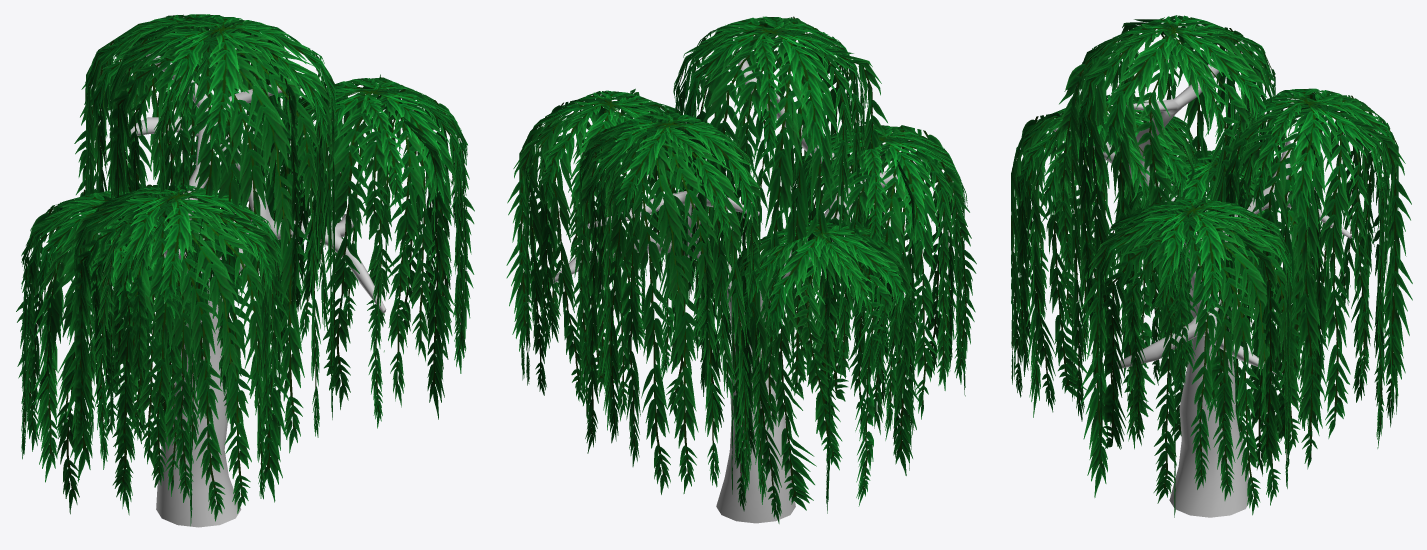
The model's file is street_vegetation_park_tree_Iva2.FBX.
3 views of the same model, side by side, from view 1: azimuth 30°, elevation 25°; view 2: azimuth 150°, elevation 25°; view 3: azimuth 270°, elevation 25° (orthographic). The views are drawn at different scales.
Visible parts, largest first — view 1: street_vegetation_park_tree_Iva_leafs, street_vegetation_park_tree_Iva_leafs3, street_vegetation_park_tree_Iva_leafs001, street_vegetation_park_tree_Iva2_bark; view 2: street_vegetation_park_tree_Iva_leafs, street_vegetation_park_tree_Iva_leafs001, street_vegetation_park_tree_Iva_leafs3, street_vegetation_park_tree_Iva2_bark; view 3: street_vegetation_park_tree_Iva_leafs, street_vegetation_park_tree_Iva_leafs001, street_vegetation_park_tree_Iva_leafs3, street_vegetation_park_tree_Iva2_bark.
Boxes of the visible parts, left/top/right/bottom form: street_vegetation_park_tree_Iva_leafs: left=21, top=15, right=467, bottom=521; street_vegetation_park_tree_Iva_leafs3: left=16, top=14, right=474, bottom=525; street_vegetation_park_tree_Iva_leafs001: left=21, top=14, right=467, bottom=324; street_vegetation_park_tree_Iva2_bark: left=130, top=53, right=386, bottom=527; street_vegetation_park_tree_Iva_leafs: left=519, top=17, right=965, bottom=523; street_vegetation_park_tree_Iva_leafs001: left=533, top=16, right=967, bottom=337; street_vegetation_park_tree_Iva_leafs3: left=506, top=16, right=976, bottom=513; street_vegetation_park_tree_Iva2_bark: left=552, top=49, right=922, bottom=523; street_vegetation_park_tree_Iva_leafs: left=1011, top=15, right=1398, bottom=515; street_vegetation_park_tree_Iva_leafs001: left=1019, top=15, right=1396, bottom=313; street_vegetation_park_tree_Iva_leafs3: left=1013, top=19, right=1412, bottom=517; street_vegetation_park_tree_Iva2_bark: left=1053, top=40, right=1351, bottom=517.
Size of the model in its own units: 599 by 654 by 509.
